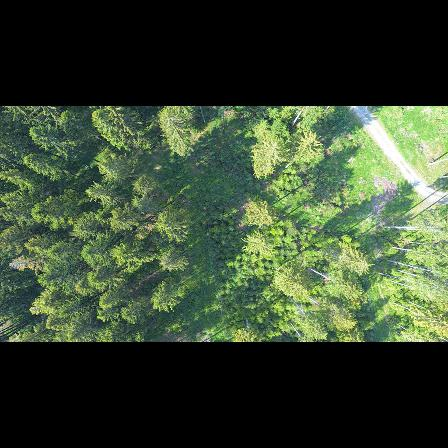Dead: (7, 253, 43, 272)
